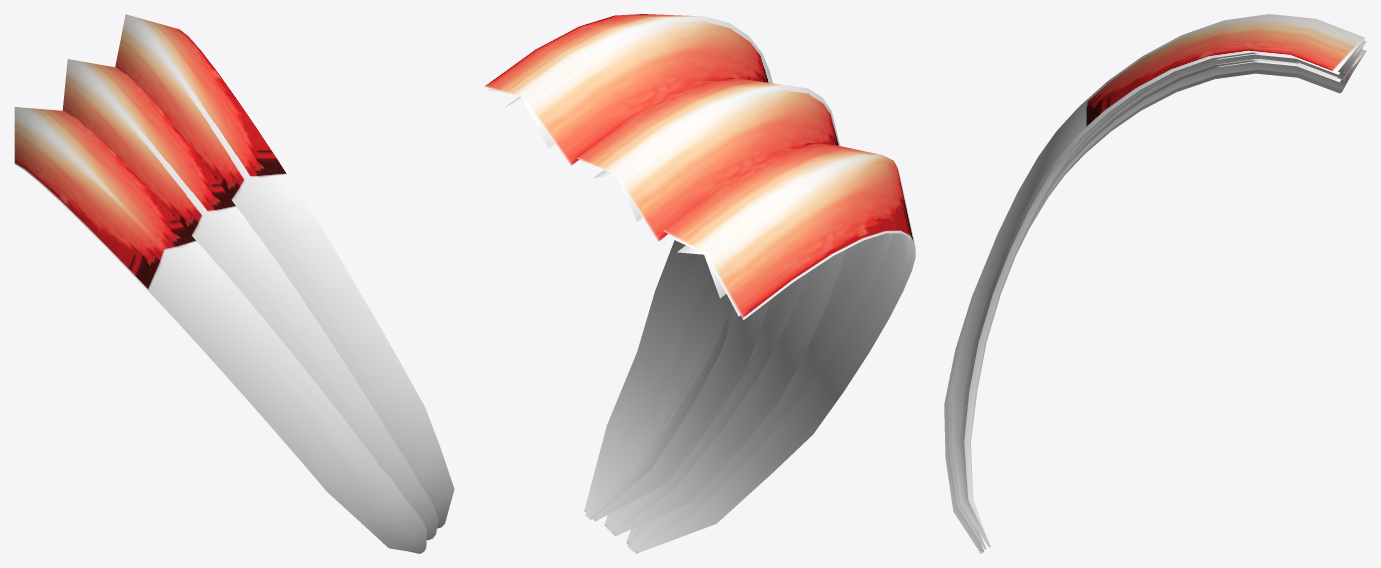
The model's file is zhuahen #2813031.fbx.
3 views of the same model, side by side, from view 1: azimuth 30°, elevation 25°; view 2: azimuth 150°, elevation 25°; view 3: azimuth 270°, elevation 25° (orthographic). The views are drawn at different scales.
Visible parts, largest first — view 1: zhua_01_02 (×3), zhua_01_01 (×3); view 2: zhua_01_02 (×3), zhua_01_01 (×3), zhua_01 (×3); view 3: zhua_01_02 (×2), zhua_01 (×3), zhua_01_01 (×3).
Part boxes in pixels (x1,y1,x2,y2): zhua_01_02 (×3): (14,14,454,550); zhua_01_01 (×3): (68,14,444,553); zhua_01_02 (×3): (484,14,915,553); zhua_01_01 (×3): (488,16,910,553); zhua_01 (×3): (504,96,892,551); zhua_01_02 (×2): (949,15,1365,548); zhua_01 (×3): (960,37,1366,552); zhua_01_01 (×3): (944,14,1362,553).
Size of the model in its own units: 3.55 by 5.48 by 4.45.
